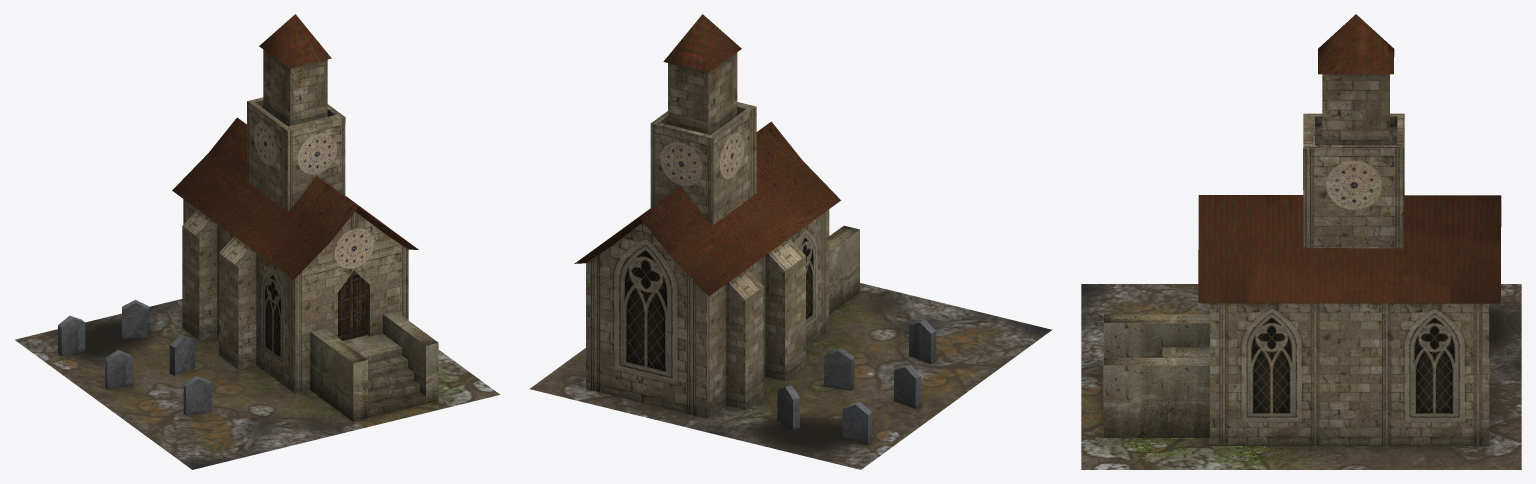
File: Church.FBX
3 renders of one model, left to right at view 1: azimuth 30°, elevation 25°; view 2: azimuth 150°, elevation 25°; view 3: azimuth 270°, elevation 25°, orthographic. The views are drawn at different scales.
Visible parts, largest first — view 1: Church; view 2: Church; view 3: Church.
Boxes of the visible parts, x1,y1,x2,y2 form: Church: [15, 14, 499, 469]; Church: [530, 14, 1052, 469]; Church: [1081, 14, 1521, 469].
Bounding box in the file's own units: 11.81 × 11.81 × 11.81.
